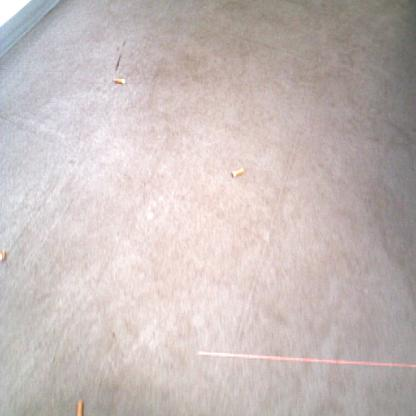dirty: (230, 166, 245, 178), (76, 398, 85, 416), (112, 76, 127, 86), (0, 247, 6, 263)
mark: (49, 341, 60, 364), (113, 53, 123, 73), (142, 180, 146, 206), (111, 331, 117, 341), (122, 38, 127, 48), (116, 46, 120, 52)
